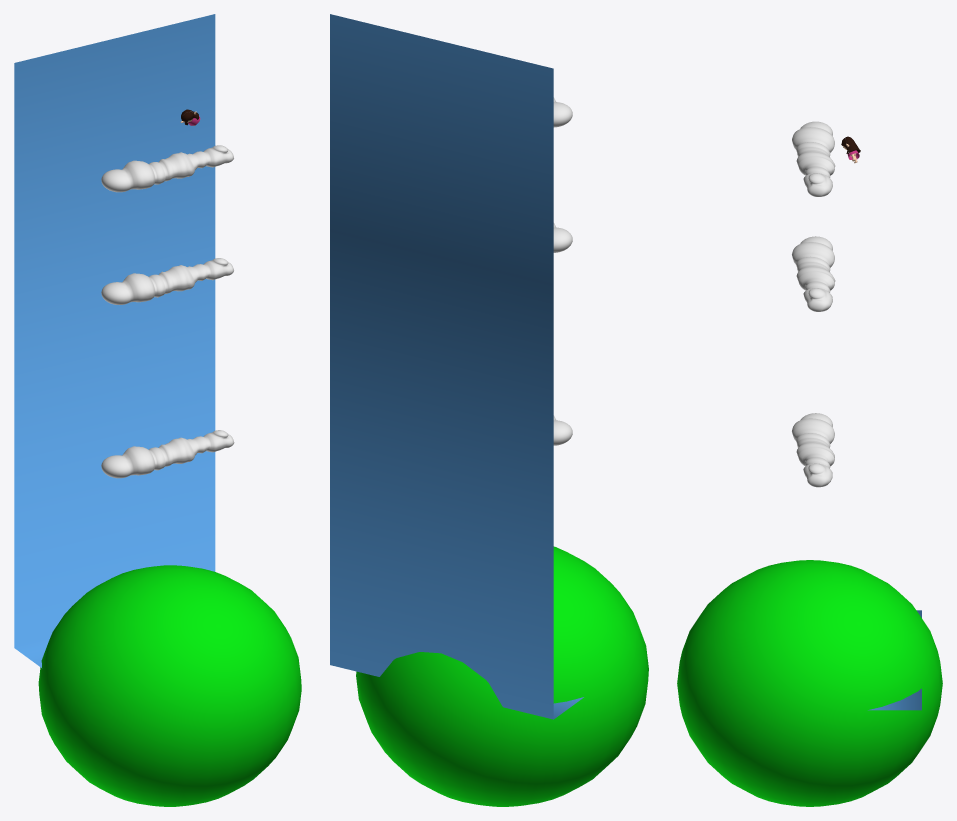
Rendered from girl.gltf.
3 views of the same model, side by side, from view 1: azimuth 30°, elevation 25°; view 2: azimuth 150°, elevation 25°; view 3: azimuth 270°, elevation 25° (orthographic). The views are drawn at different scales.
Visible parts, largest first — view 1: Plane, Land, Cloud.003, Cloud.001, Cloud.002; view 2: Plane, Land; view 3: Land, Cloud.001, Cloud.002, Cloud.003, Plane.
Part boxes in pixels (left/top/right/bottom): Plane: left=14, top=14, right=215, bottom=667; Land: left=38, top=565, right=301, bottom=806; Cloud.003: left=101, top=430, right=234, bottom=478; Cloud.001: left=101, top=145, right=233, bottom=192; Cloud.002: left=101, top=258, right=233, bottom=304; Plane: left=330, top=14, right=583, bottom=719; Land: left=356, top=546, right=648, bottom=806; Land: left=677, top=560, right=942, bottom=806; Cloud.001: left=792, top=121, right=835, bottom=196; Cloud.002: left=792, top=236, right=835, bottom=311; Cloud.003: left=792, top=413, right=834, bottom=487; Plane: left=868, top=610, right=921, bottom=710.
Size of the model in its own units: 61.48 by 183 by 60.5.
Materials: 3 (1 with a texture image).
